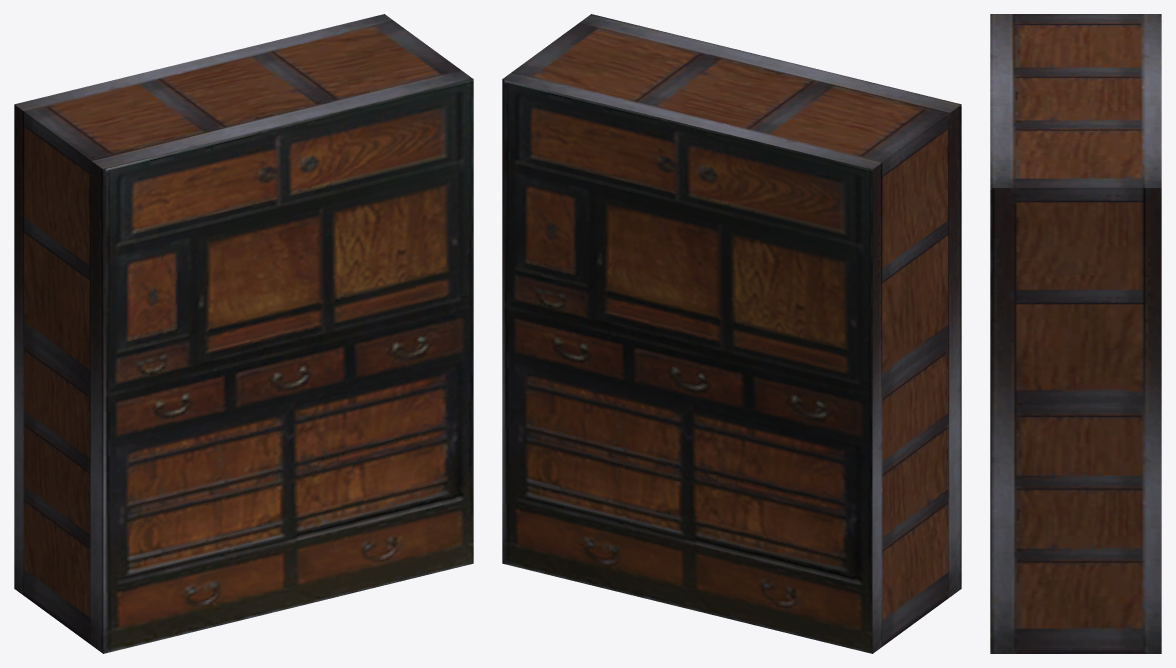
Rendered from it_china_cabinet.fbx.
The picture shows the model from 3 angles, left to right: view 1: azimuth 30°, elevation 25°; view 2: azimuth 150°, elevation 25°; view 3: azimuth 270°, elevation 25°; orthographic projection. The views are drawn at different scales.
Visible parts, largest first — view 1: mesh_0; view 2: mesh_0; view 3: mesh_0.
Part boxes in pixels (x1,y1,x2,y2): mesh_0: [14, 14, 473, 653]; mesh_0: [502, 14, 961, 653]; mesh_0: [990, 14, 1161, 653].
Size of the model in its own units: 120 by 150 by 50.
Materials: 1 (1 with a texture image).
